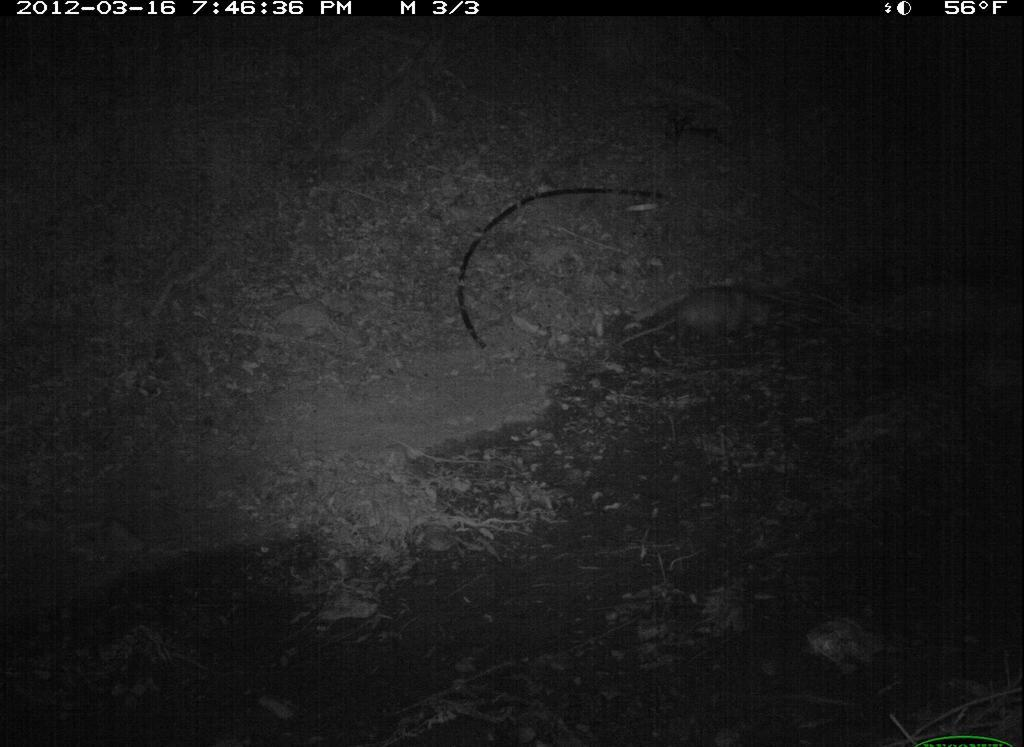opossum: (619, 278, 794, 374)
